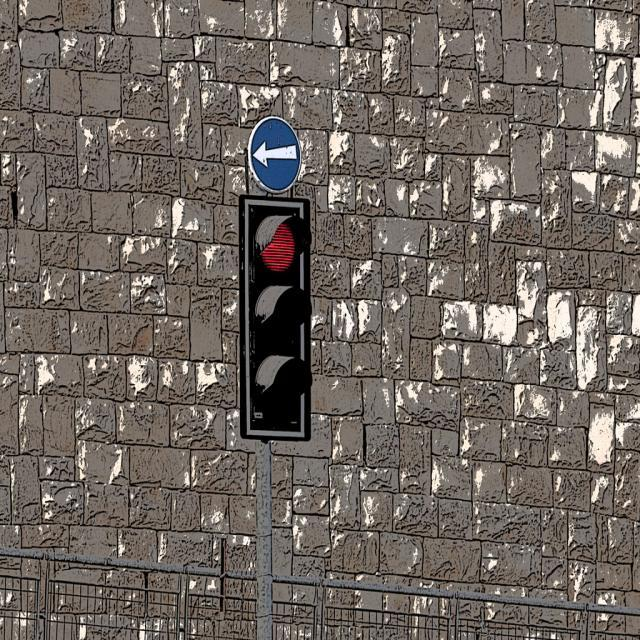traffic light: (242, 194, 313, 442)
